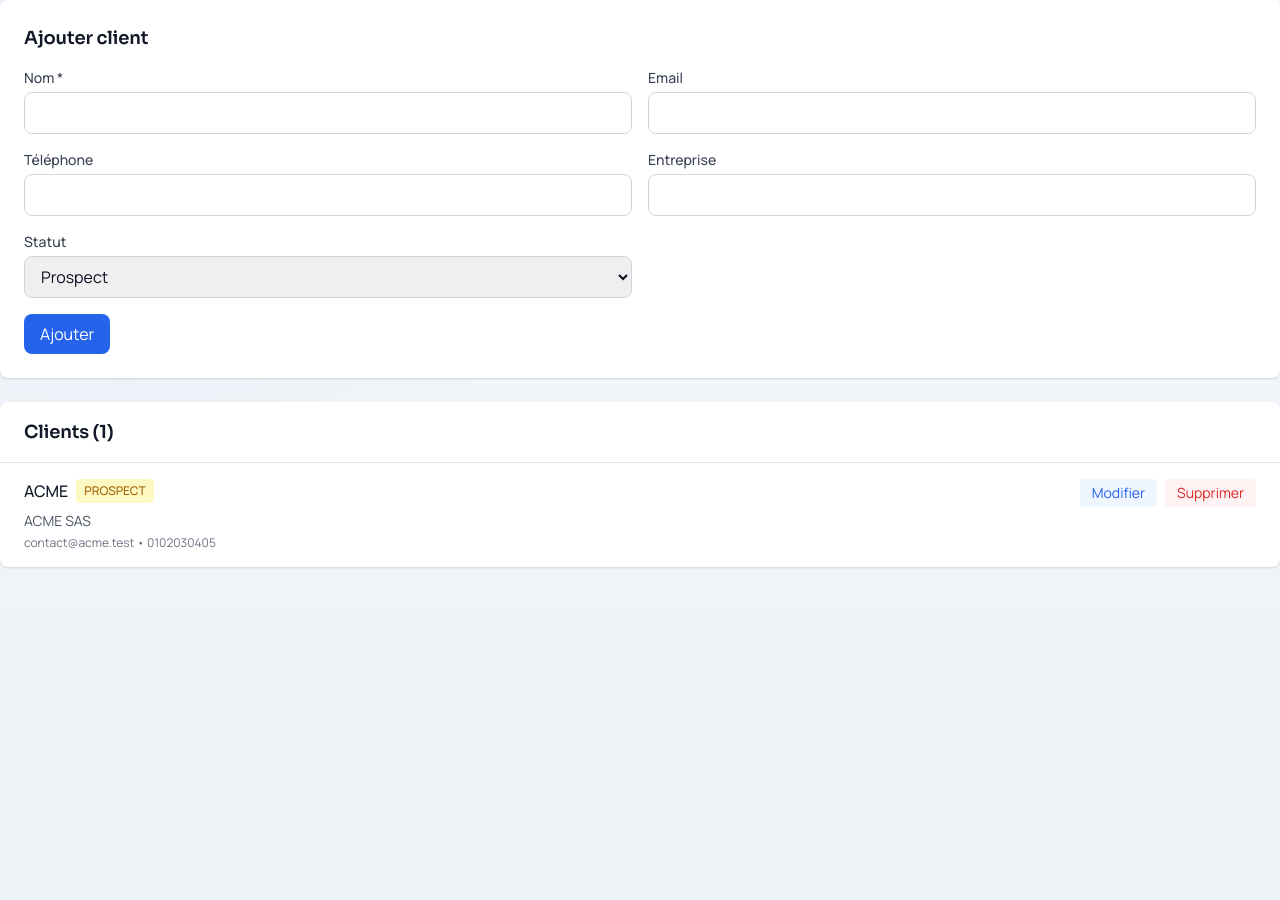
Test: ClientList › met a jour un client et affiche un toast de succes
Click the button "Modifier".
click(1118, 493)  # box top-left (1080, 479), bottom-right (1157, 507)
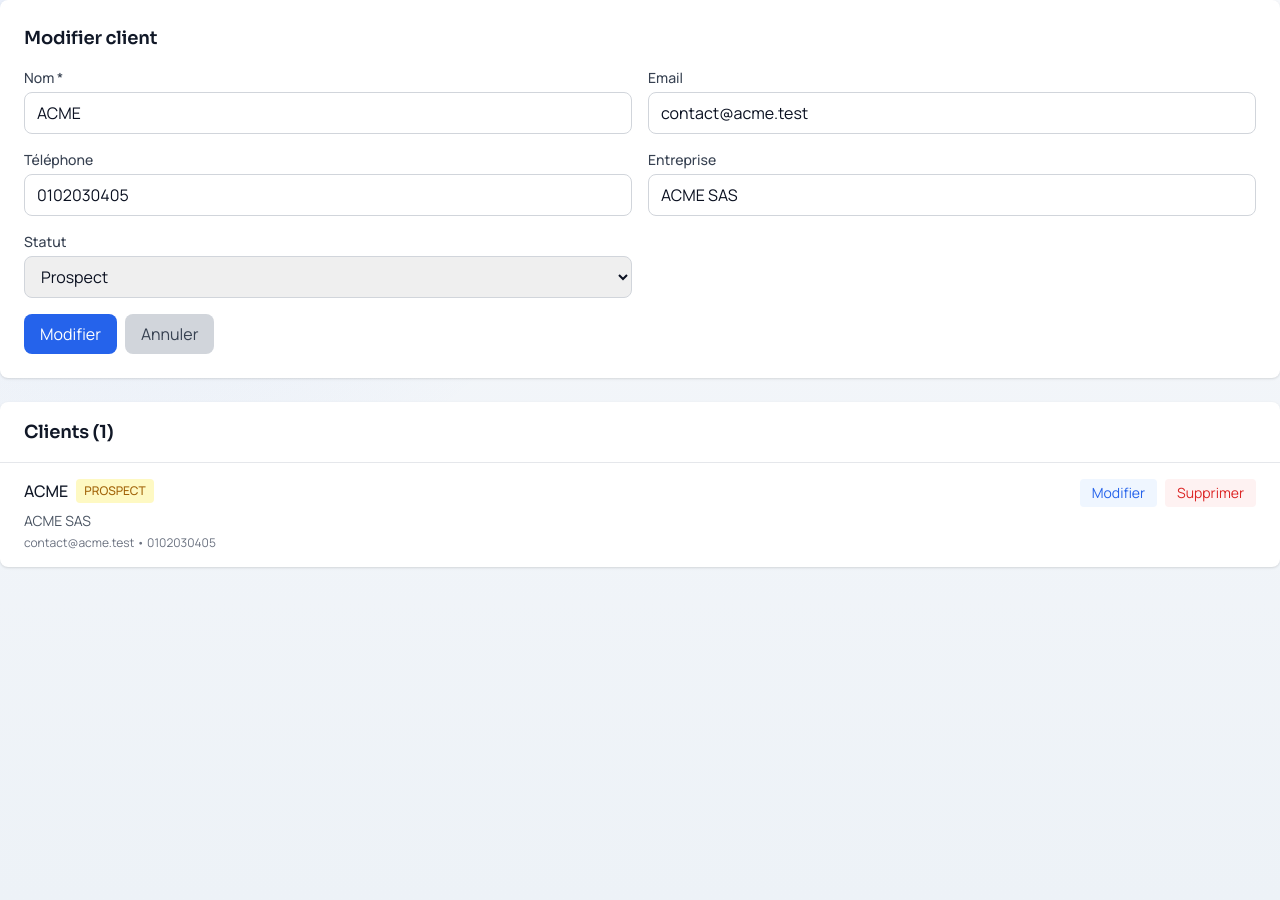
Expected: the form "Annuler" is shown, top-left (24, 68), bottom-right (1256, 354)
Replace the text in the field showing "ACME" below "Nom *" with "ACME Groupe" at coordinates (328, 113), box top-left (24, 92), bottom-right (632, 134)
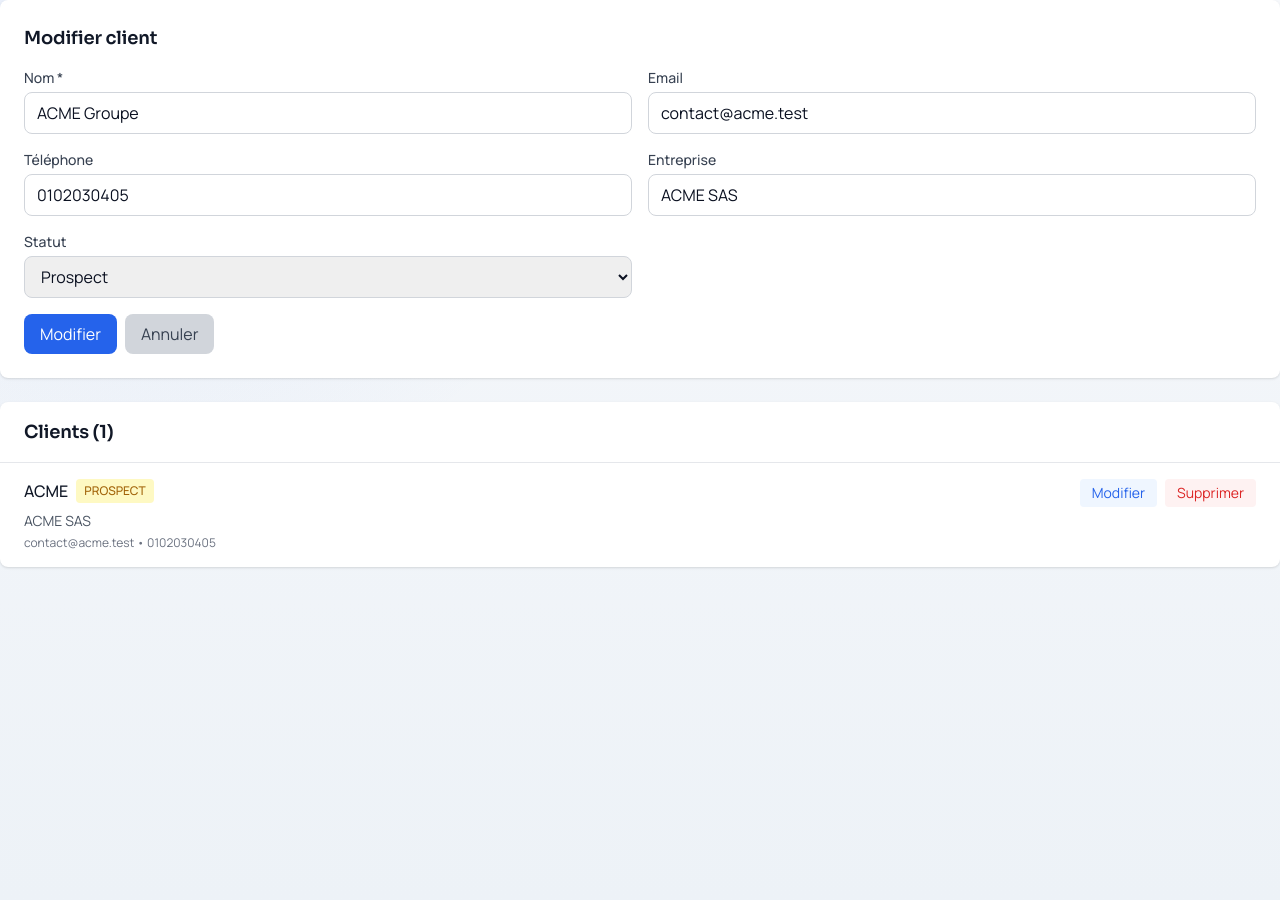
Click the button "Modifier" below "Statut".
click(70, 334)  # box top-left (24, 314), bottom-right (117, 354)
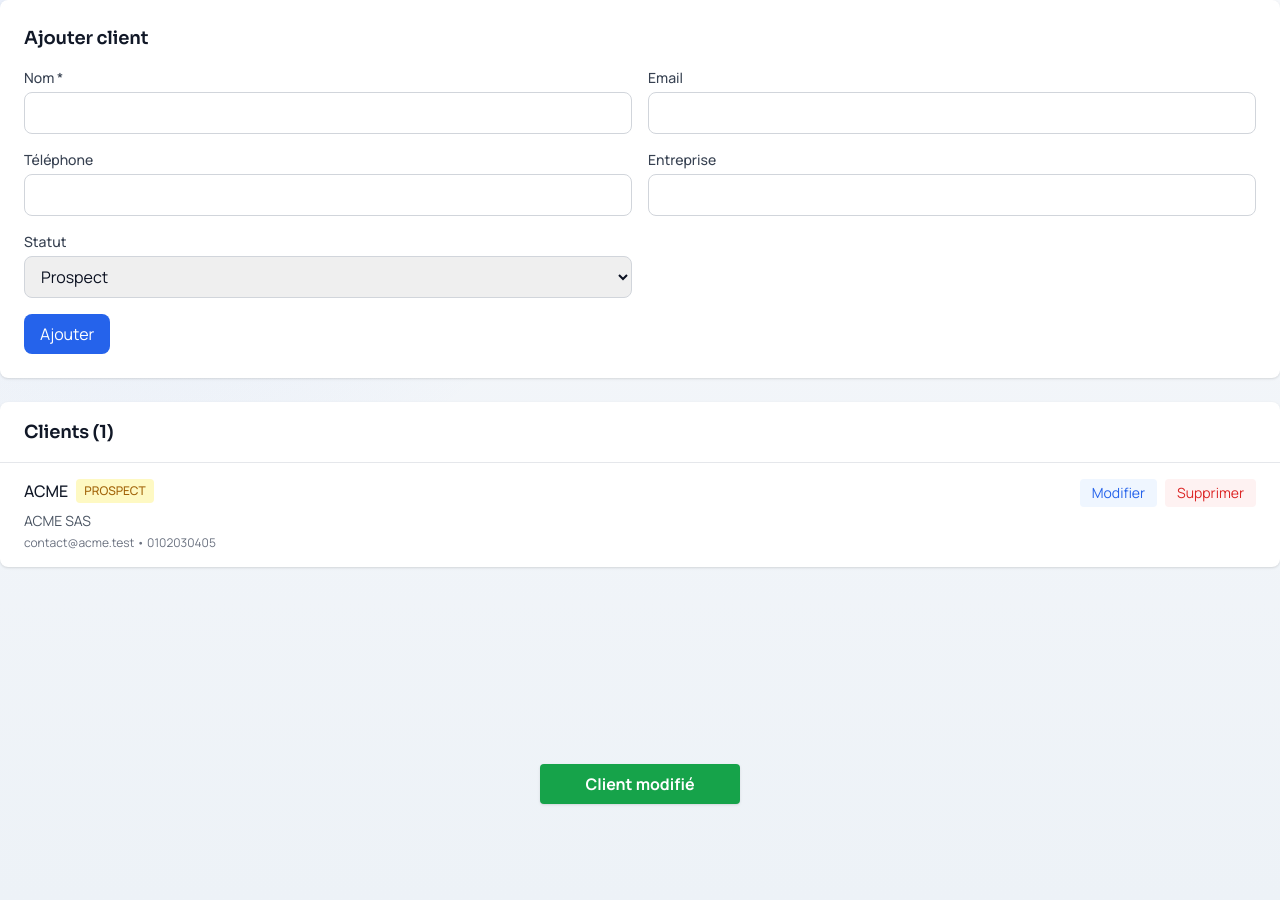
Expected: the text "Client modifié" is shown, top-left (540, 764), bottom-right (740, 804)
